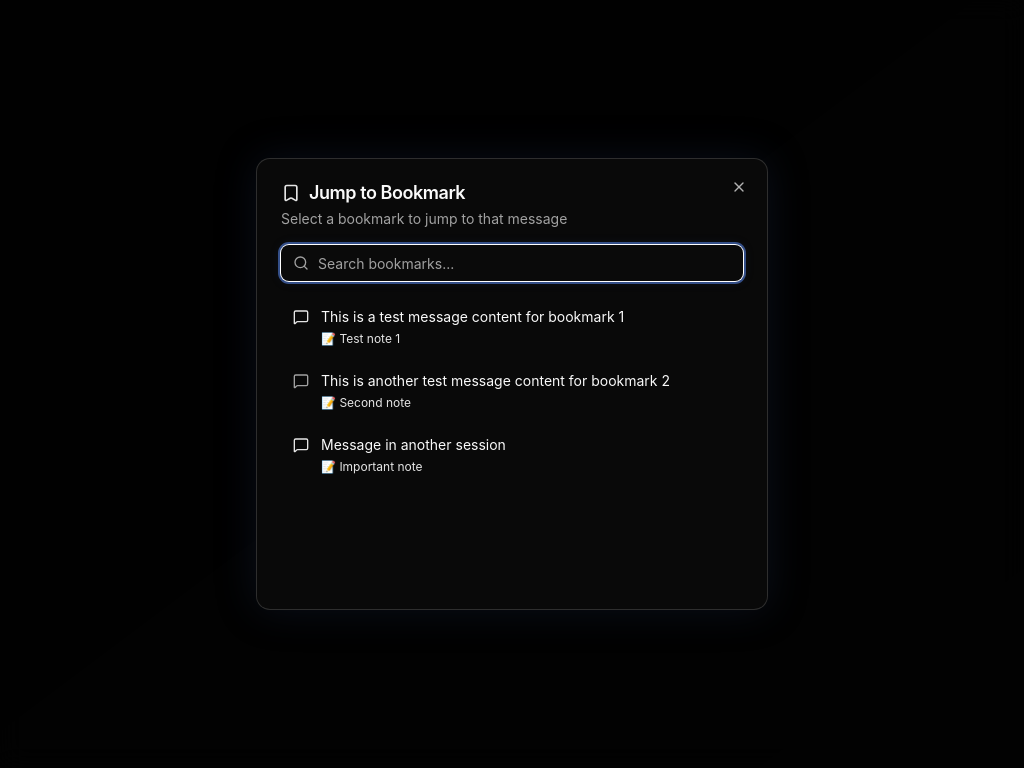
Scenario: BookmarkJumpDialog › filters bookmarks by search query
Expected: the text "This is a test message content for bookmark 1" is shown, [321, 308, 624, 325]
# Search for "another session"
Type "another session" into the field with placeholder "Search bookmarks...".
click(512, 263); type("another session")  # box [281, 245, 743, 281]
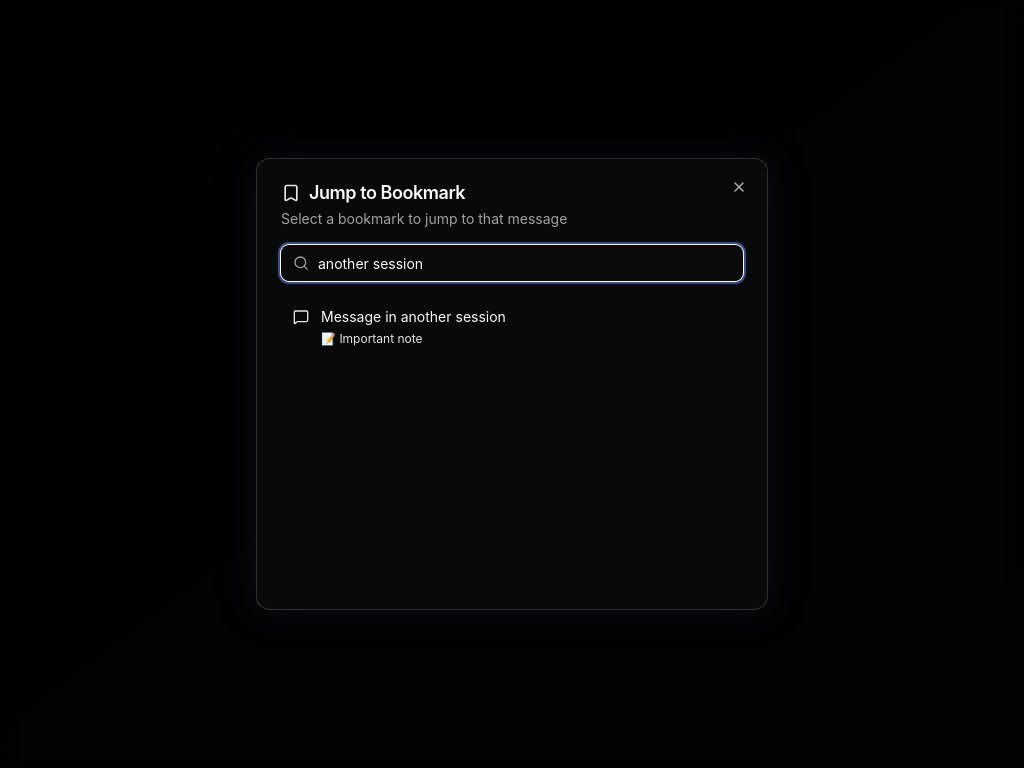
Expected: the text "Message in another session" is shown, [321, 308, 506, 325]
Expected: the option "Test note 1" is gone
